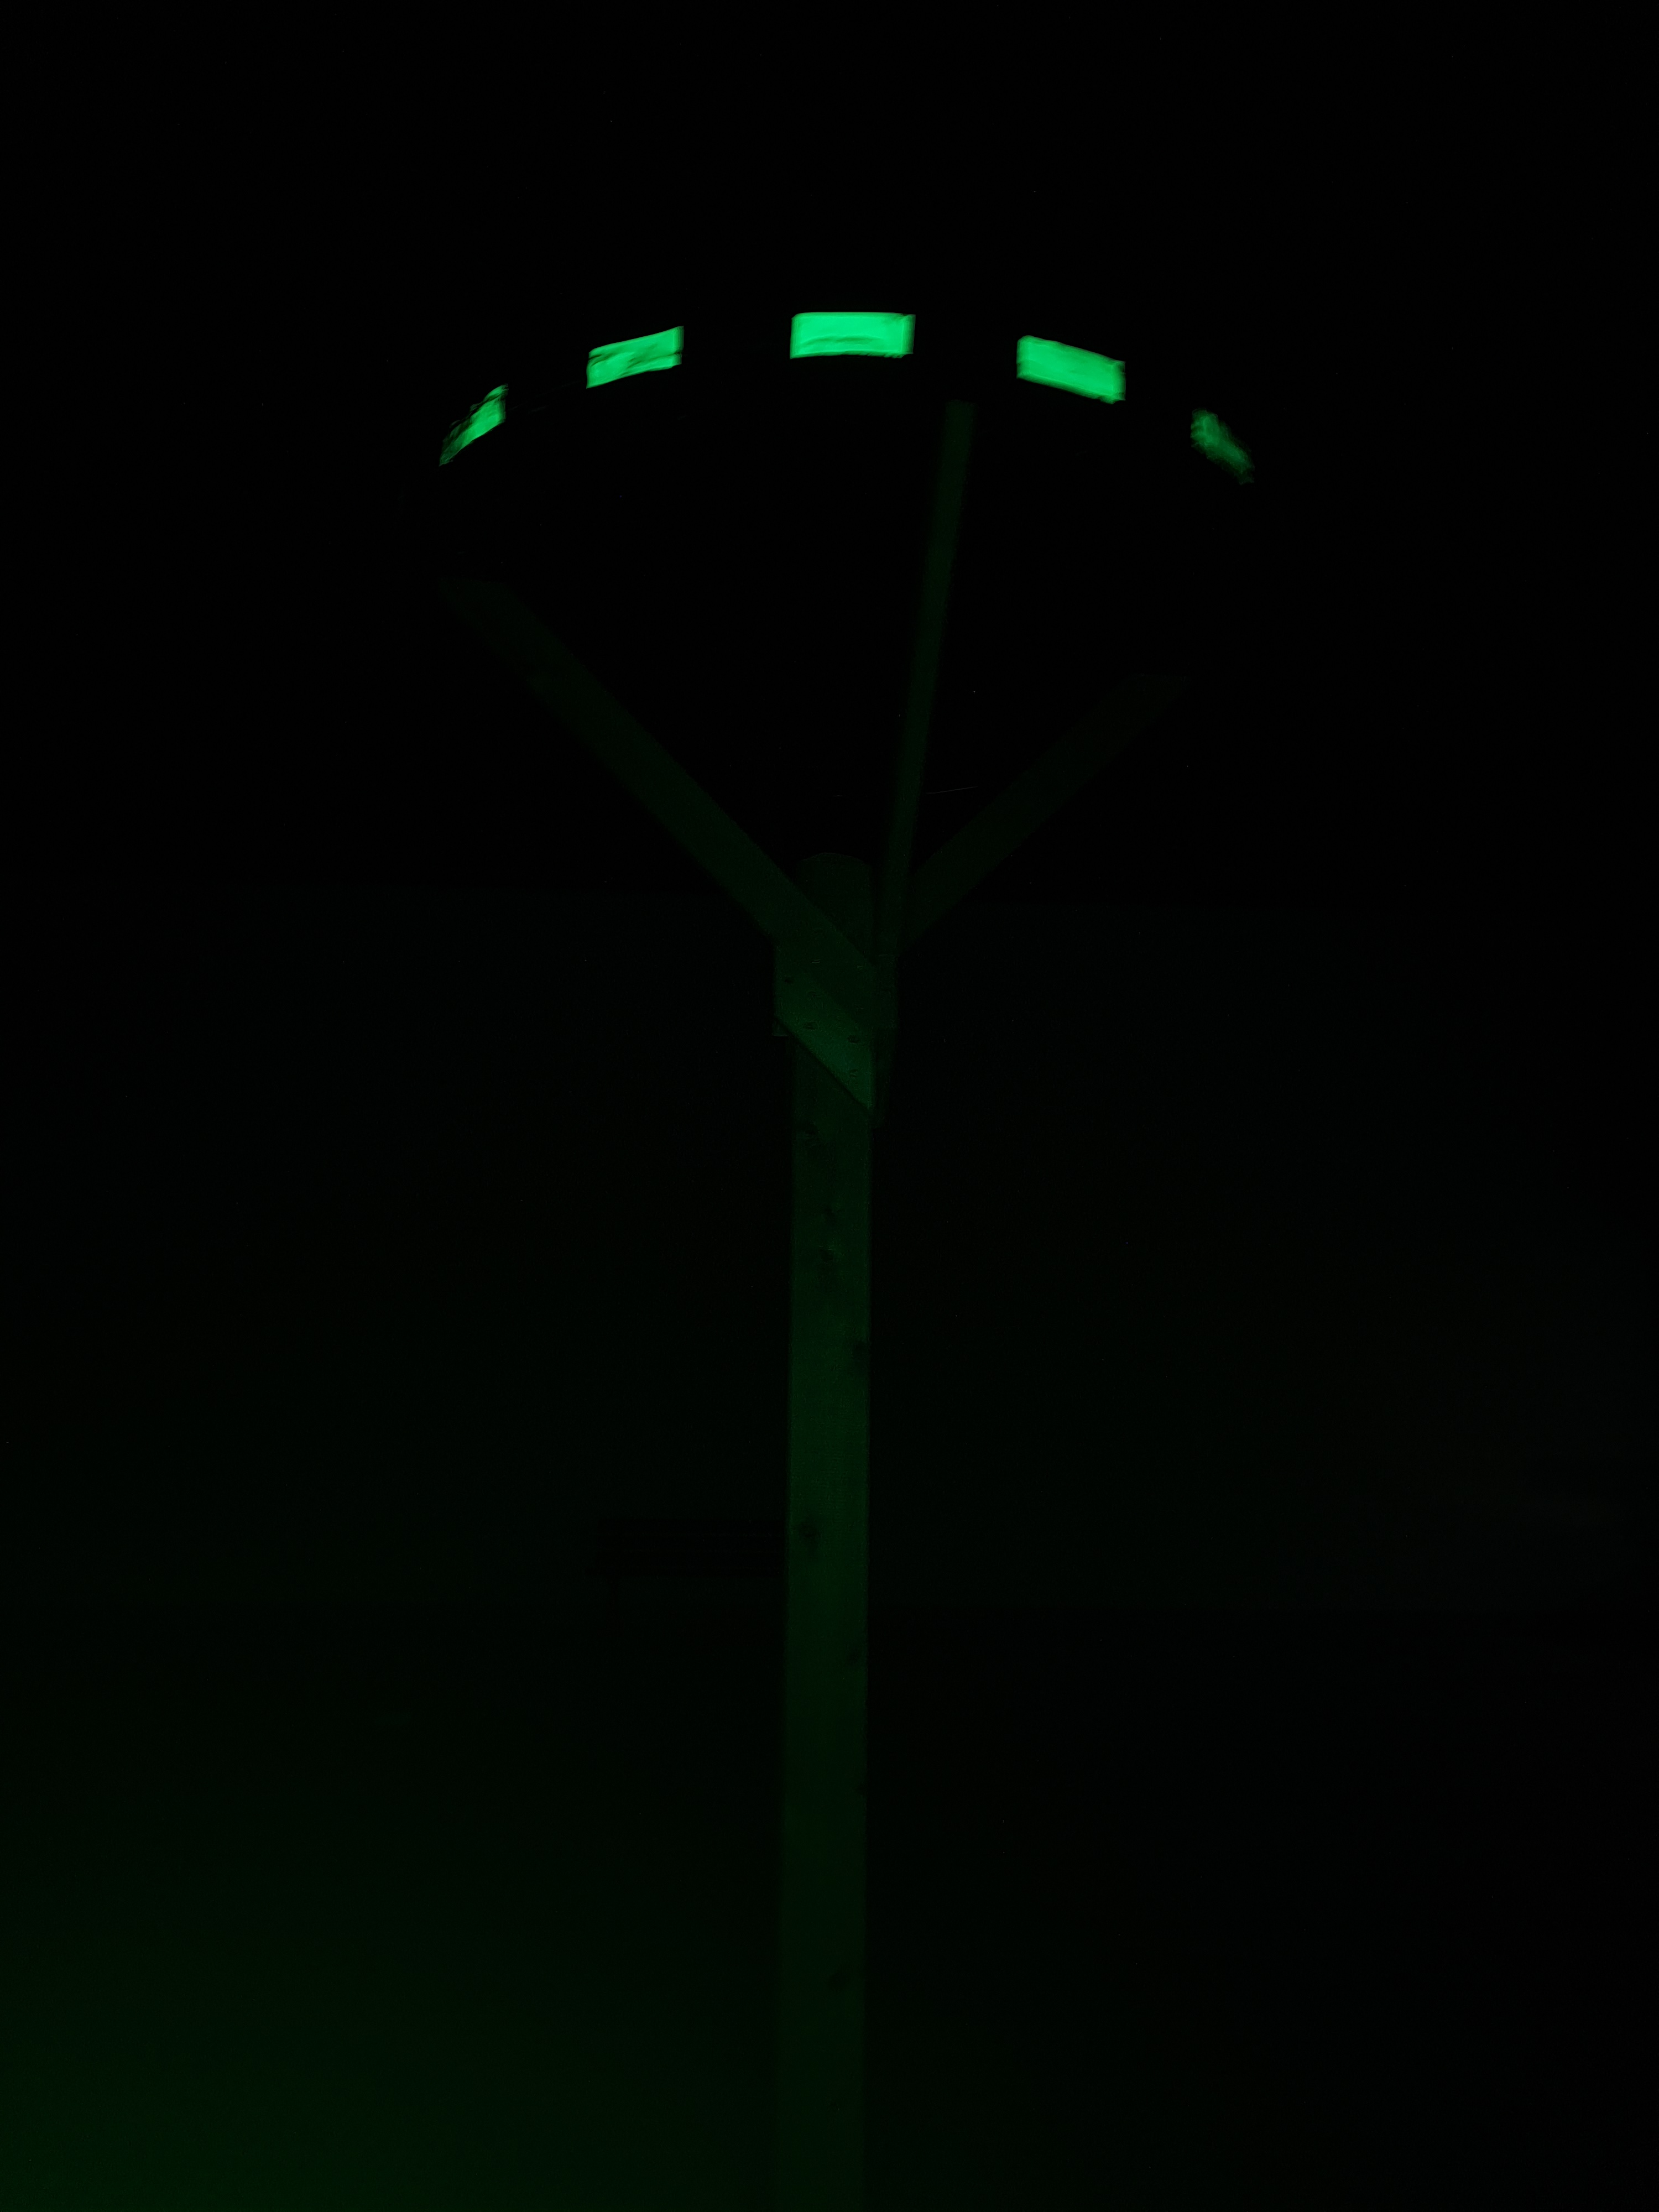hoop: (432, 300, 1248, 474)
